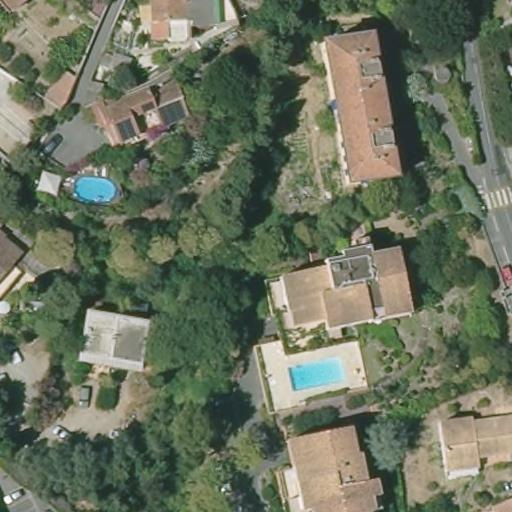pool: (280, 354, 350, 394), (60, 172, 127, 206)
